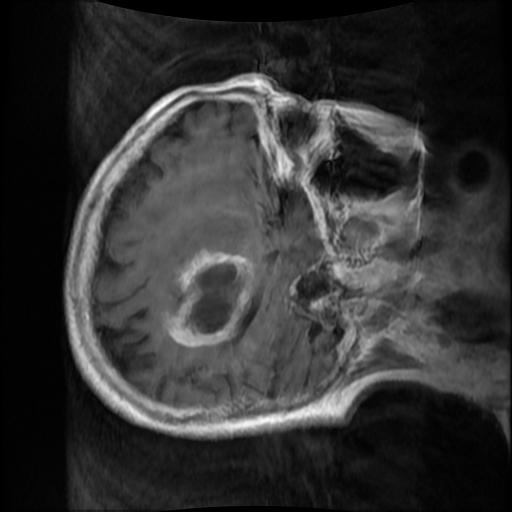glioma: (161, 248, 255, 347)
